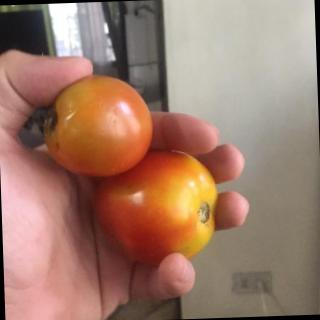Tomat: (24, 62, 247, 274)
